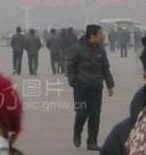person: (68, 23, 117, 150), (101, 53, 146, 154), (9, 25, 25, 75), (25, 28, 42, 75), (46, 27, 62, 74), (115, 29, 130, 58), (63, 26, 77, 42), (108, 27, 116, 53)
